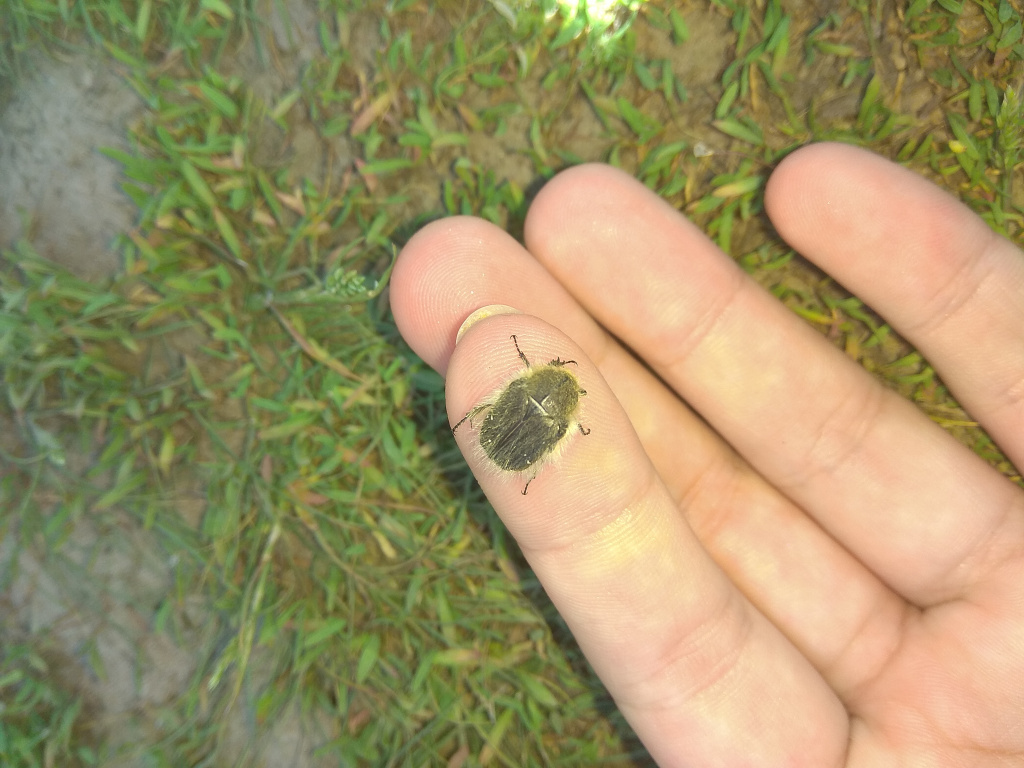Tropinota_hirta: (446, 336, 606, 498)
